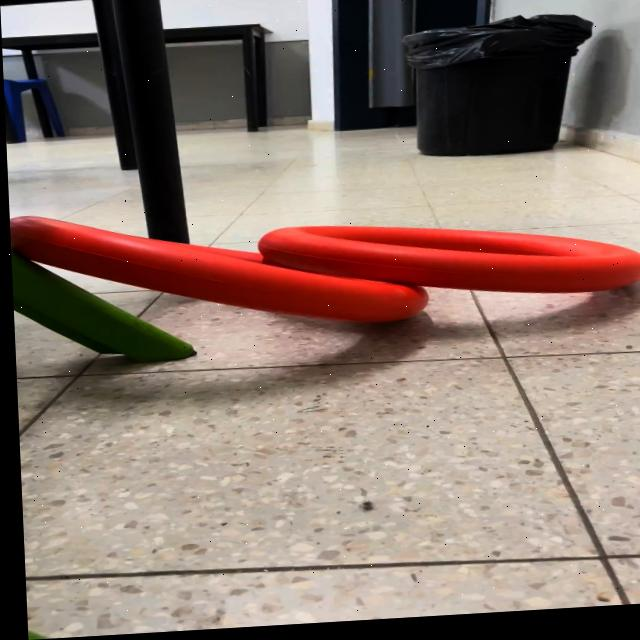note: (9, 196, 429, 348), (252, 212, 640, 317)
